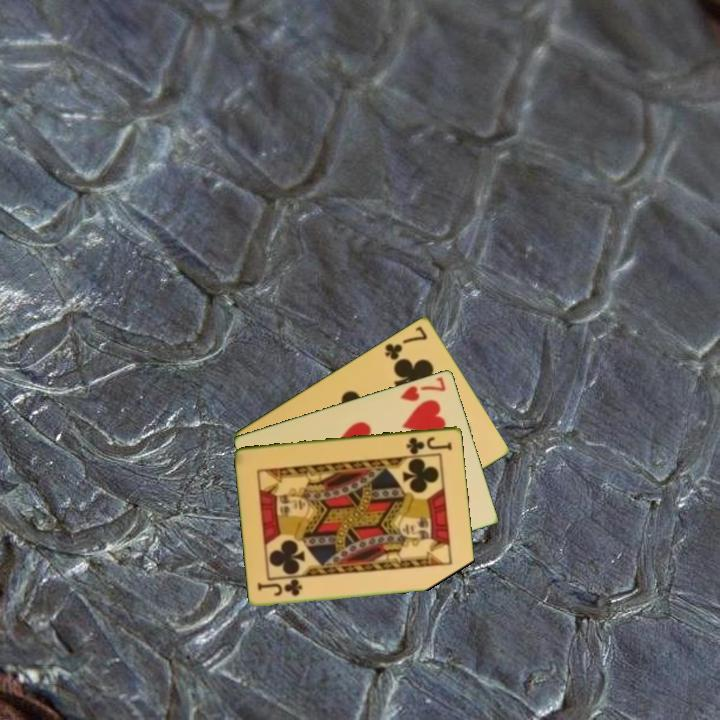7c: (381, 322, 430, 362)
7h: (397, 373, 449, 404)
Jc: (403, 433, 455, 456), (254, 577, 305, 599)
